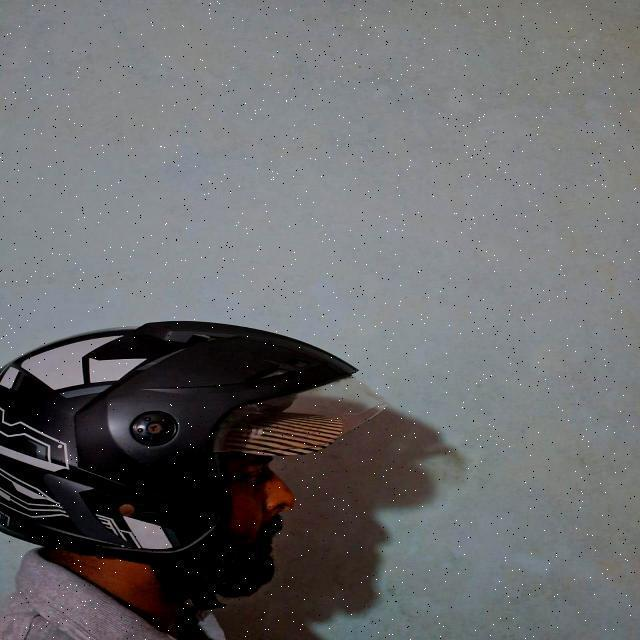helmet: (0, 322, 384, 621)
